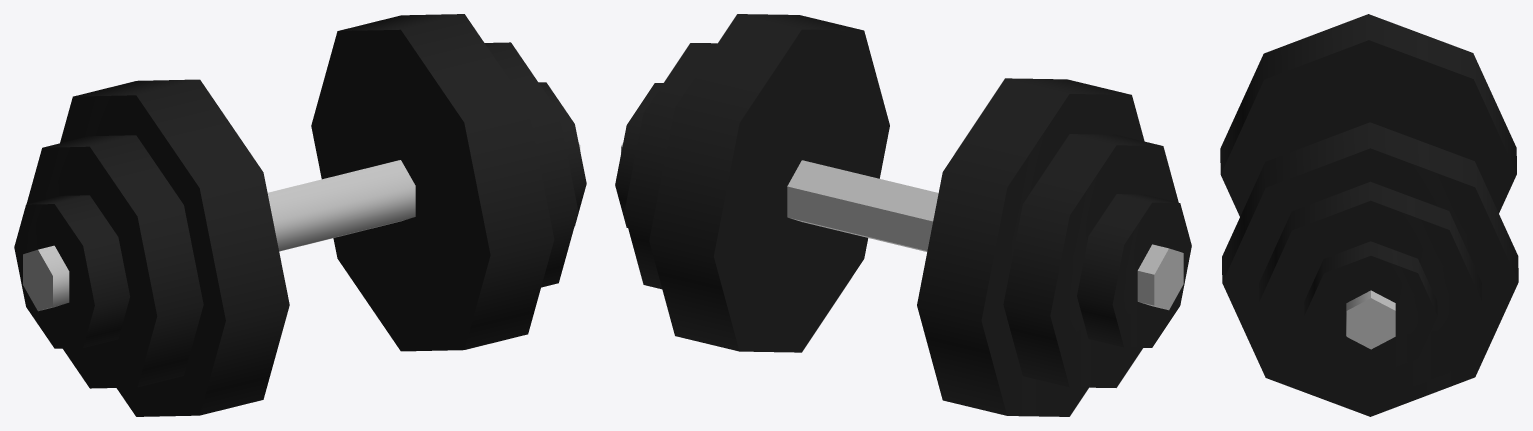
The model's file is dumbbell_002.glb.
3 renders of one model, left to right at view 1: azimuth 30°, elevation 25°; view 2: azimuth 150°, elevation 25°; view 3: azimuth 270°, elevation 25°, orthographic. The views are drawn at different scales.
Visible parts, largest first — view 1: dumbbell_002; view 2: dumbbell_002; view 3: dumbbell_002.
Part boxes in pixels (x1=…): dumbbell_002: x1=14, y1=14, x2=586, y2=416; dumbbell_002: x1=615, y1=14, x2=1191, y2=416; dumbbell_002: x1=1220, y1=14, x2=1518, y2=416.
Bounding box in the file's own units: 0.3994 × 0.2318 × 0.2333.
Materials: 1 (1 with a texture image).
